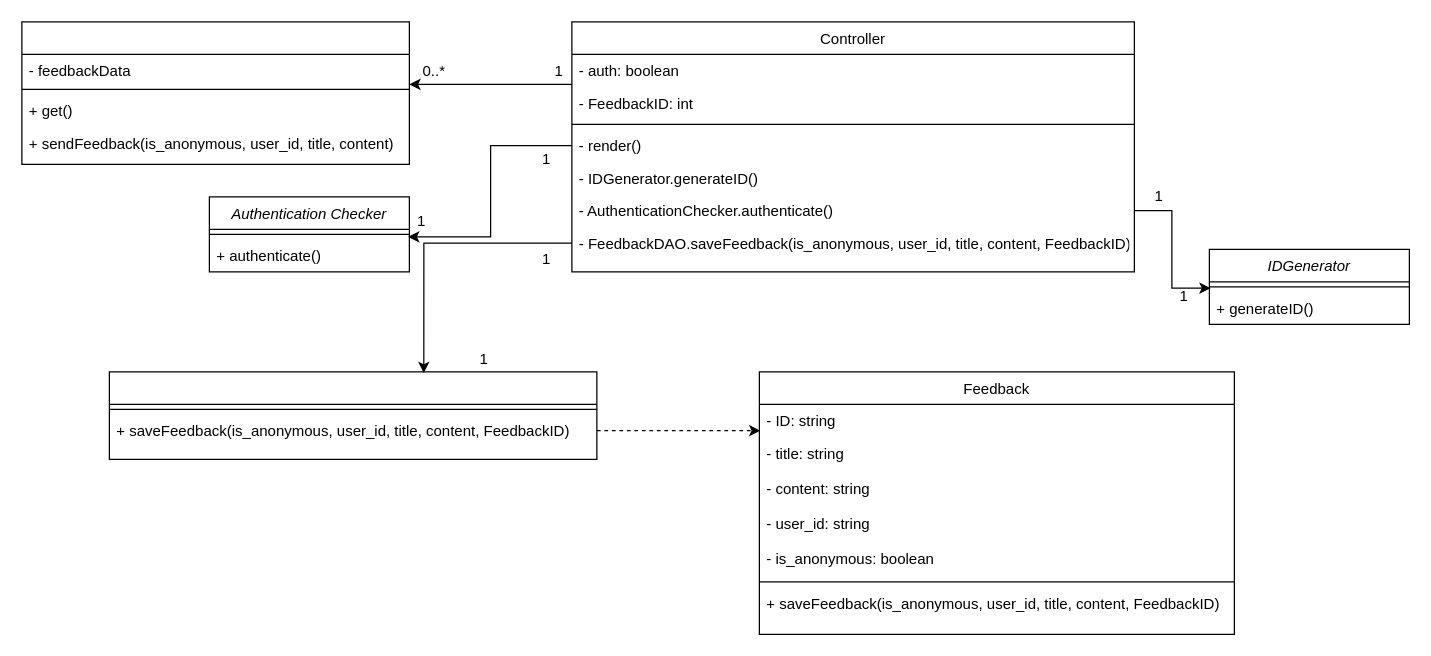
This 1431x656 diagram has some shape labels left out. Here are the shapes that lost their labels. From the top down, the box of each, then its label:
(21, 21, 409, 164): SendFeedbackView
(108, 371, 597, 459): FeedbackDAO
